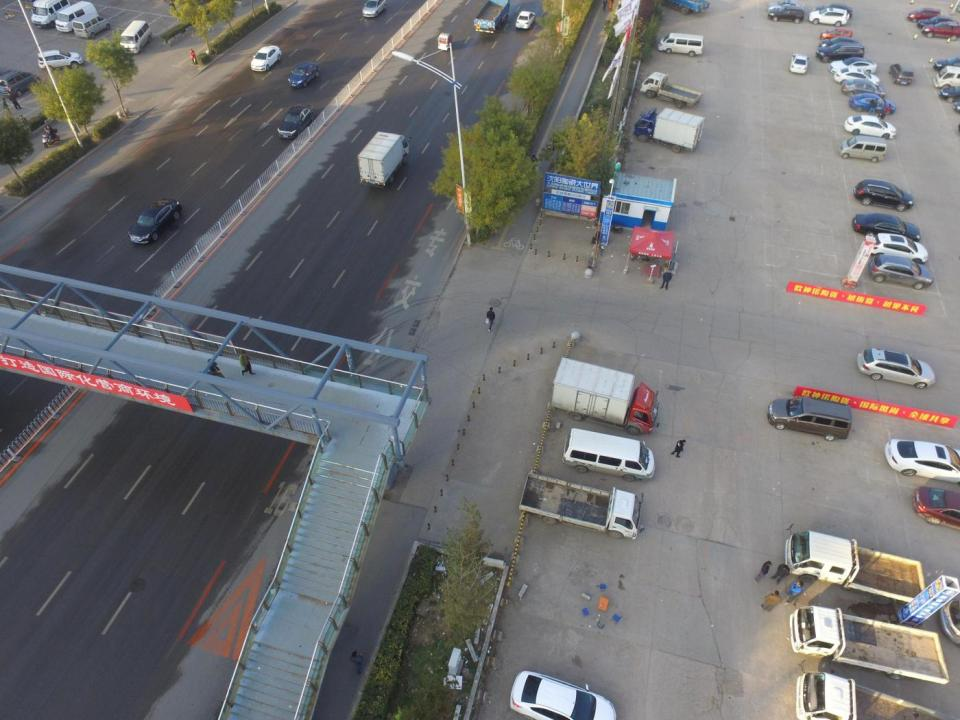car: (511, 669, 616, 720), (768, 396, 852, 442), (857, 347, 937, 388), (886, 440, 960, 480), (126, 197, 183, 245), (869, 255, 936, 290), (853, 179, 914, 213), (852, 212, 921, 242), (913, 487, 960, 529), (872, 233, 929, 261), (275, 103, 313, 141), (843, 115, 898, 139), (0, 70, 41, 97), (250, 42, 282, 74), (850, 94, 898, 114), (830, 58, 876, 78), (38, 50, 84, 69), (816, 43, 865, 60), (843, 80, 889, 98), (768, 5, 806, 26), (835, 68, 880, 85), (290, 62, 318, 86), (921, 22, 960, 39), (818, 38, 864, 52), (809, 8, 848, 24), (890, 62, 914, 84), (790, 54, 813, 76), (768, 0, 803, 14), (818, 3, 852, 16), (516, 9, 535, 31), (920, 16, 960, 26), (909, 8, 944, 19), (822, 29, 854, 41), (941, 86, 960, 102), (933, 58, 960, 69)
truck: (787, 607, 949, 684), (785, 531, 925, 610), (550, 354, 658, 437), (518, 472, 644, 539), (793, 671, 958, 720), (633, 104, 707, 152), (359, 132, 409, 187), (637, 71, 701, 108), (475, 0, 510, 31), (662, 0, 710, 14)
van: (566, 428, 655, 483), (837, 137, 888, 164), (55, 1, 96, 33), (656, 31, 704, 58), (115, 19, 152, 54), (30, 0, 69, 29), (71, 15, 109, 41), (936, 65, 960, 88)
